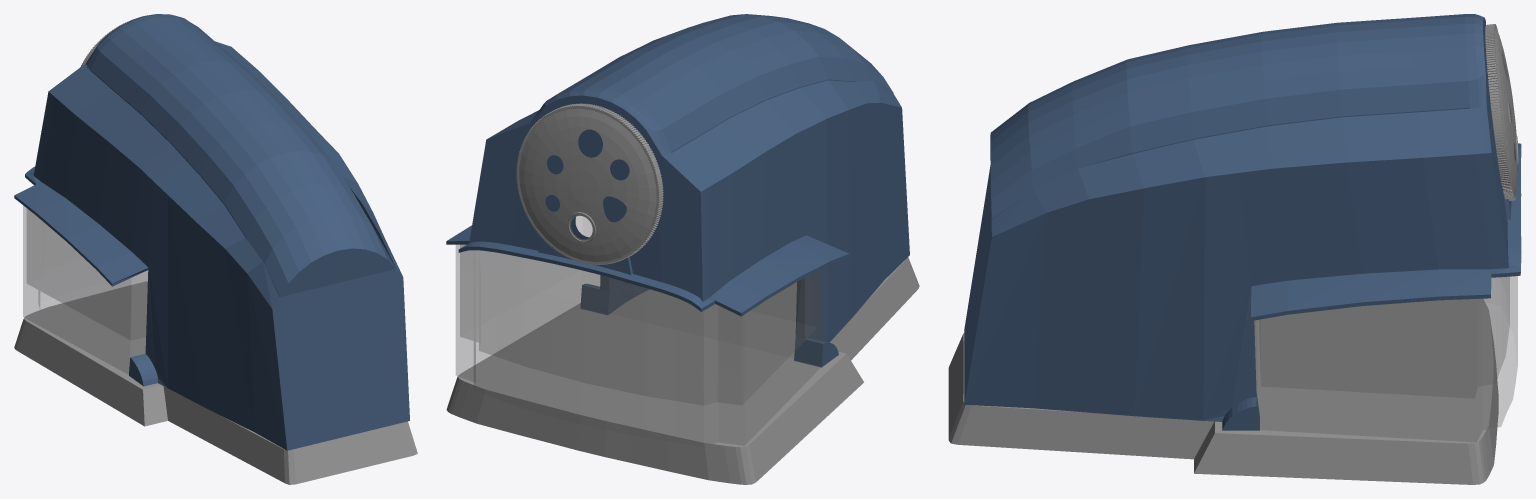
Rendered from PSModel.fbx.
The picture shows the model from 3 angles, left to right: view 1: azimuth 30°, elevation 25°; view 2: azimuth 150°, elevation 25°; view 3: azimuth 270°, elevation 25°; orthographic projection. The views are drawn at different scales.
Parts seen in each view (by area): view 1: blueCase, stand, shavingsBox; view 2: blueCase, stand, shavingsBox, pencilWheel; view 3: blueCase, stand, shavingsBox, pencilWheel.
Boxes of the visible parts, box(x1,y1,x2,y2) form: blueCase: box(14, 14, 409, 450); stand: box(14, 281, 417, 484); shavingsBox: box(23, 206, 148, 374); blueCase: box(446, 14, 909, 367); stand: box(446, 257, 919, 484); shavingsBox: box(456, 216, 823, 446); pencilWheel: box(516, 103, 663, 265); blueCase: box(964, 14, 1521, 430); stand: box(948, 299, 1498, 484); shavingsBox: box(1254, 276, 1517, 441); pencilWheel: box(1485, 24, 1518, 200).
Bounding box in the file's own units: 3.58 × 3.98 × 5.36.
